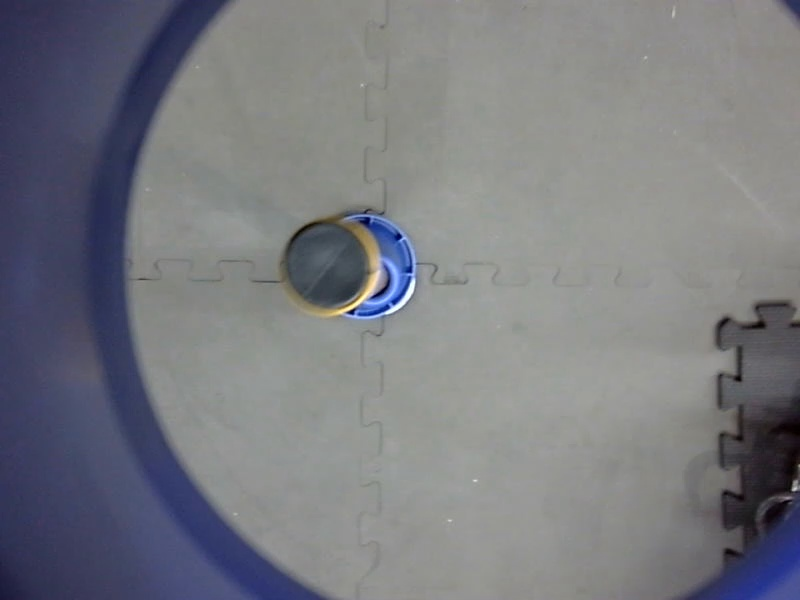tip: (274, 210, 386, 321)
